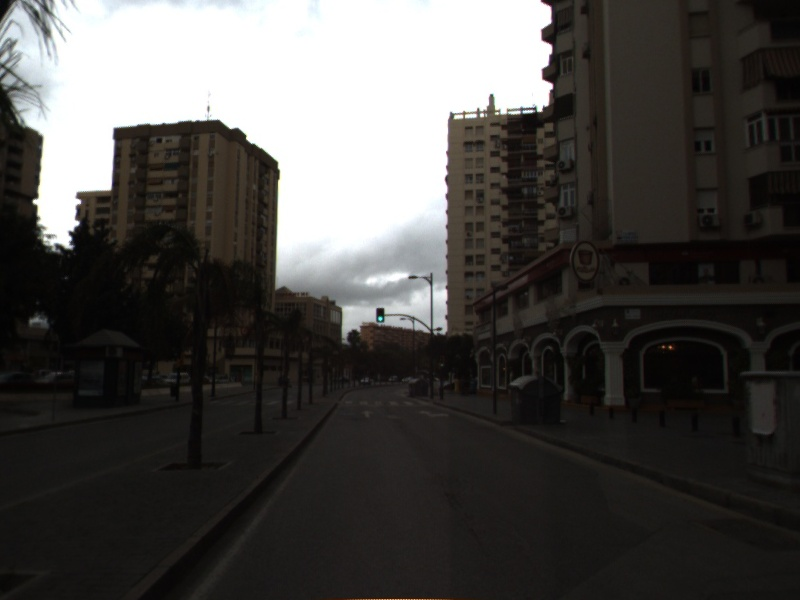STRAIGHT: (358, 408, 377, 420)
STRAIGHT_RIGHT: (416, 407, 451, 420)
